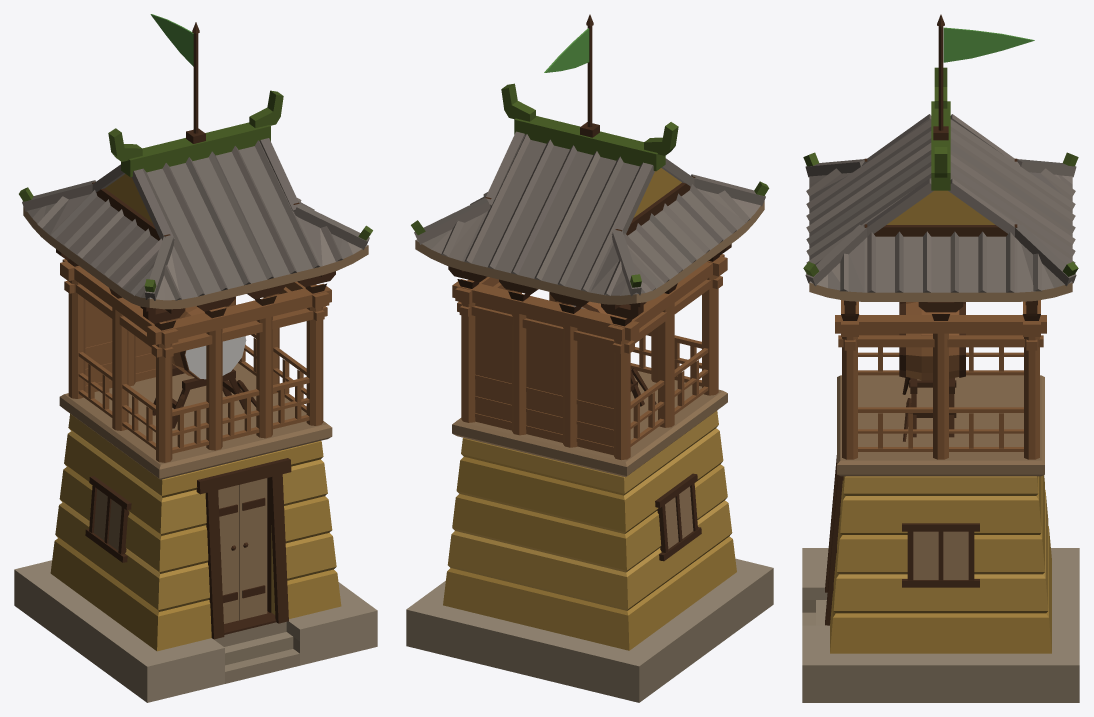
Rendered from market-drum-tower-f133f3.glb.
The picture shows the model from 3 angles, left to right: view 1: azimuth 30°, elevation 25°; view 2: azimuth 150°, elevation 25°; view 3: azimuth 270°, elevation 25°; orthographic projection. The views are drawn at different scales.
Visible parts, largest first — view 1: tower, door-r, door-l, pennant; view 2: tower, pennant; view 3: tower, pennant.
Boxes of the visible parts, left/top/right/bottom form: tower: left=14, top=22, right=377, bottom=702; door-r: left=239, top=478, right=267, bottom=620; door-l: left=218, top=485, right=239, bottom=623; pennant: left=150, top=14, right=193, bottom=66; tower: left=406, top=14, right=773, bottom=702; pennant: left=544, top=28, right=589, bottom=72; tower: left=802, top=14, right=1079, bottom=702; pennant: left=943, top=27, right=1034, bottom=62.
Bounding box in the file's own units: 4 × 10.02 × 4.
